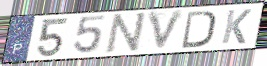5: (72, 14, 108, 56), (35, 18, 70, 58)
D: (180, 9, 217, 50)
K: (220, 8, 254, 45)
N: (103, 11, 148, 55)
V: (146, 8, 187, 53)
